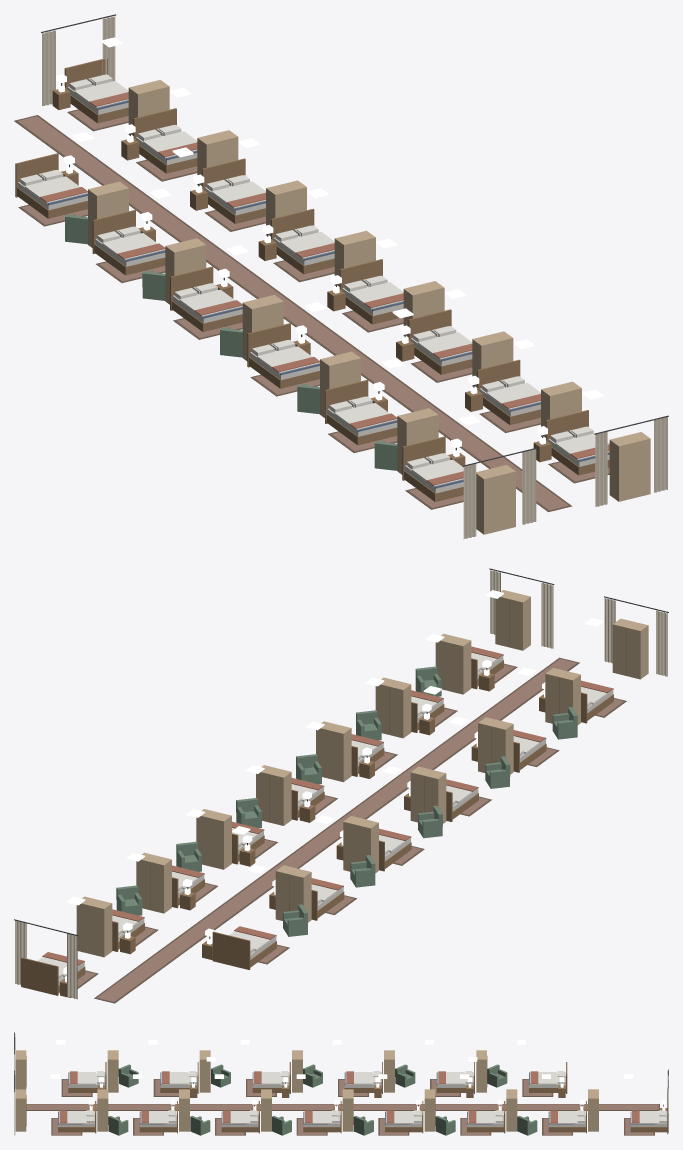
File: fine-s1.glb
3 renders of one model, top to bottom at view 1: azimuth 30°, elevation 25°; view 2: azimuth 150°, elevation 25°; view 3: azimuth 270°, elevation 25°, orthographic. The views are drawn at different scales.
Parts seen in each view (by area): view 1: soft-s1, dresser.013, dresser.005, bed-frame.001, bed-frame.000, bed-frame.003, bed-frame.004, bed-frame.002, bed-frame.005, bed-frame.011, bed-frame.009, bed-frame.012 (+17 smaller); view 2: soft-s1, dresser.005, dresser.006, dresser.013, dresser.011, dresser.012, dresser.010, dresser.009, dresser.008, dresser.007, dresser.002, dresser.000 (+15 smaller); view 3: soft-s1, dresser.007, dresser.008, dresser.009, dresser.012, dresser.013, dresser.004, dresser.000, dresser.003, dresser.005, dresser.006, dresser.010 (+28 smaller).
Part boxes in pixels (bbox=[...]): soft-s1: bbox=[14, 14, 668, 539]; dresser.013: bbox=[609, 432, 650, 501]; dresser.005: bbox=[476, 465, 515, 534]; bed-frame.001: bbox=[92, 210, 165, 275]; bed-frame.000: bbox=[15, 153, 87, 218]; bed-frame.003: bbox=[247, 323, 319, 388]; bed-frame.004: bbox=[325, 380, 397, 445]; bed-frame.002: bbox=[170, 266, 242, 331]; bed-frame.005: bbox=[402, 436, 463, 501]; bed-frame.011: bbox=[408, 309, 472, 374]; bed-frame.009: bbox=[271, 208, 334, 274]; bed-frame.012: bbox=[477, 359, 540, 424]; soft-s1: bbox=[14, 568, 668, 1003]; dresser.005: bbox=[612, 618, 648, 679]; dresser.006: bbox=[76, 896, 112, 957]; dresser.013: bbox=[495, 590, 530, 650]; dresser.011: bbox=[375, 677, 411, 738]; dresser.012: bbox=[435, 633, 471, 694]; dresser.010: bbox=[316, 721, 351, 782]; dresser.009: bbox=[256, 765, 291, 825]; dresser.008: bbox=[196, 809, 231, 869]; dresser.007: bbox=[136, 852, 171, 913]; dresser.002: bbox=[410, 766, 446, 823]; dresser.000: bbox=[275, 865, 311, 922]; soft-s1: bbox=[14, 1032, 668, 1135]; dresser.007: bbox=[506, 1089, 517, 1131]; dresser.008: bbox=[424, 1089, 435, 1131]; dresser.009: bbox=[342, 1089, 353, 1131]; dresser.012: bbox=[97, 1089, 108, 1131]; dresser.013: bbox=[15, 1089, 26, 1131]; dresser.004: bbox=[107, 1050, 118, 1092]; dresser.000: bbox=[476, 1050, 487, 1092]; dresser.003: bbox=[199, 1050, 210, 1092]; dresser.005: bbox=[15, 1050, 26, 1089]; dresser.006: bbox=[588, 1089, 598, 1131]; dresser.010: bbox=[261, 1089, 271, 1131].
Size of the model in its own units: 7.76 by 2.94 by 35.91.
